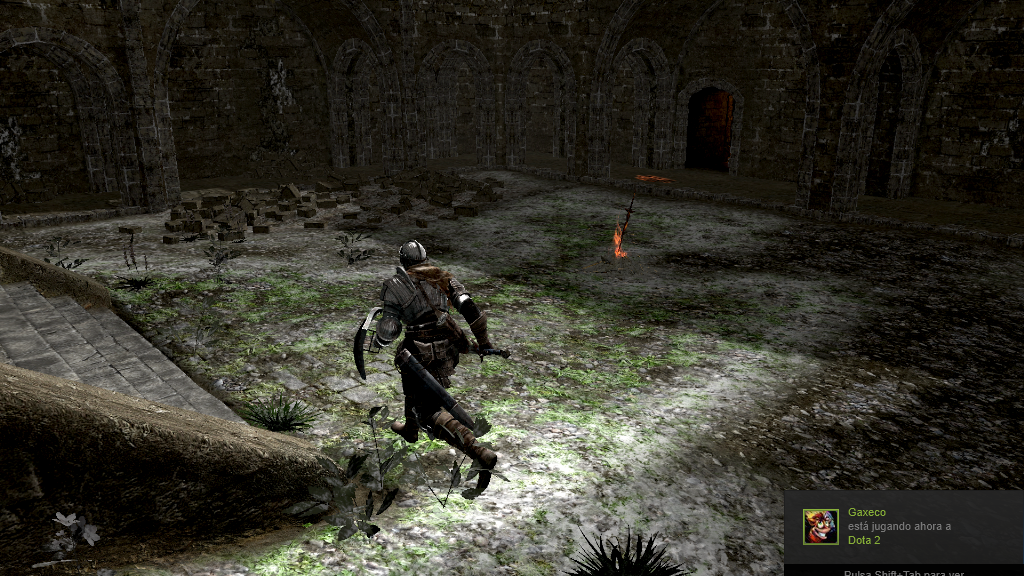bonfire: (610, 192, 639, 261)
player: (351, 236, 513, 495)
